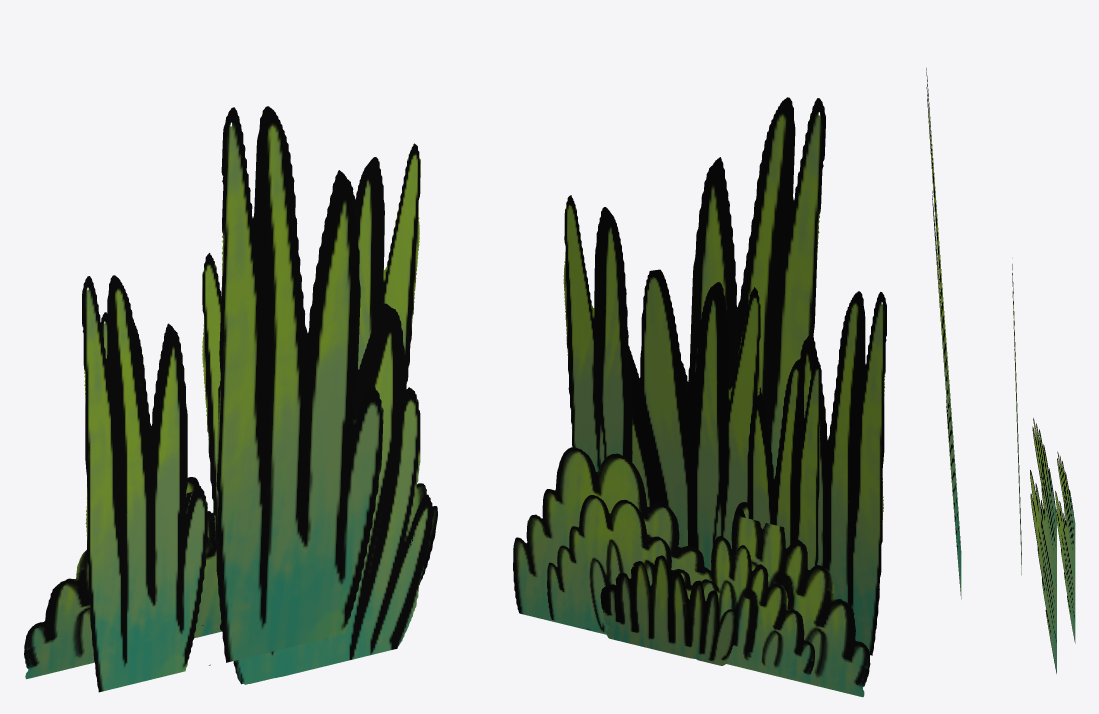
Rendered from FOREST_WALL_1_002.obj.
3 views of the same model, side by side, from view 1: azimuth 30°, elevation 25°; view 2: azimuth 150°, elevation 25°; view 3: azimuth 270°, elevation 25° (orthographic). The views are drawn at different scales.
Parts seen in each view (by area): view 1: FOREST_WALL_1_002; view 2: FOREST_WALL_1_002; view 3: FOREST_WALL_1_002.
Boxes of the visible parts, left/top/right/bottom form: FOREST_WALL_1_002: left=24, top=106, right=437, bottom=692; FOREST_WALL_1_002: left=513, top=97, right=886, bottom=697; FOREST_WALL_1_002: left=926, top=68, right=1075, bottom=673.
Bounding box in the file's own units: 1.58 × 2.38 × 0.6203.
